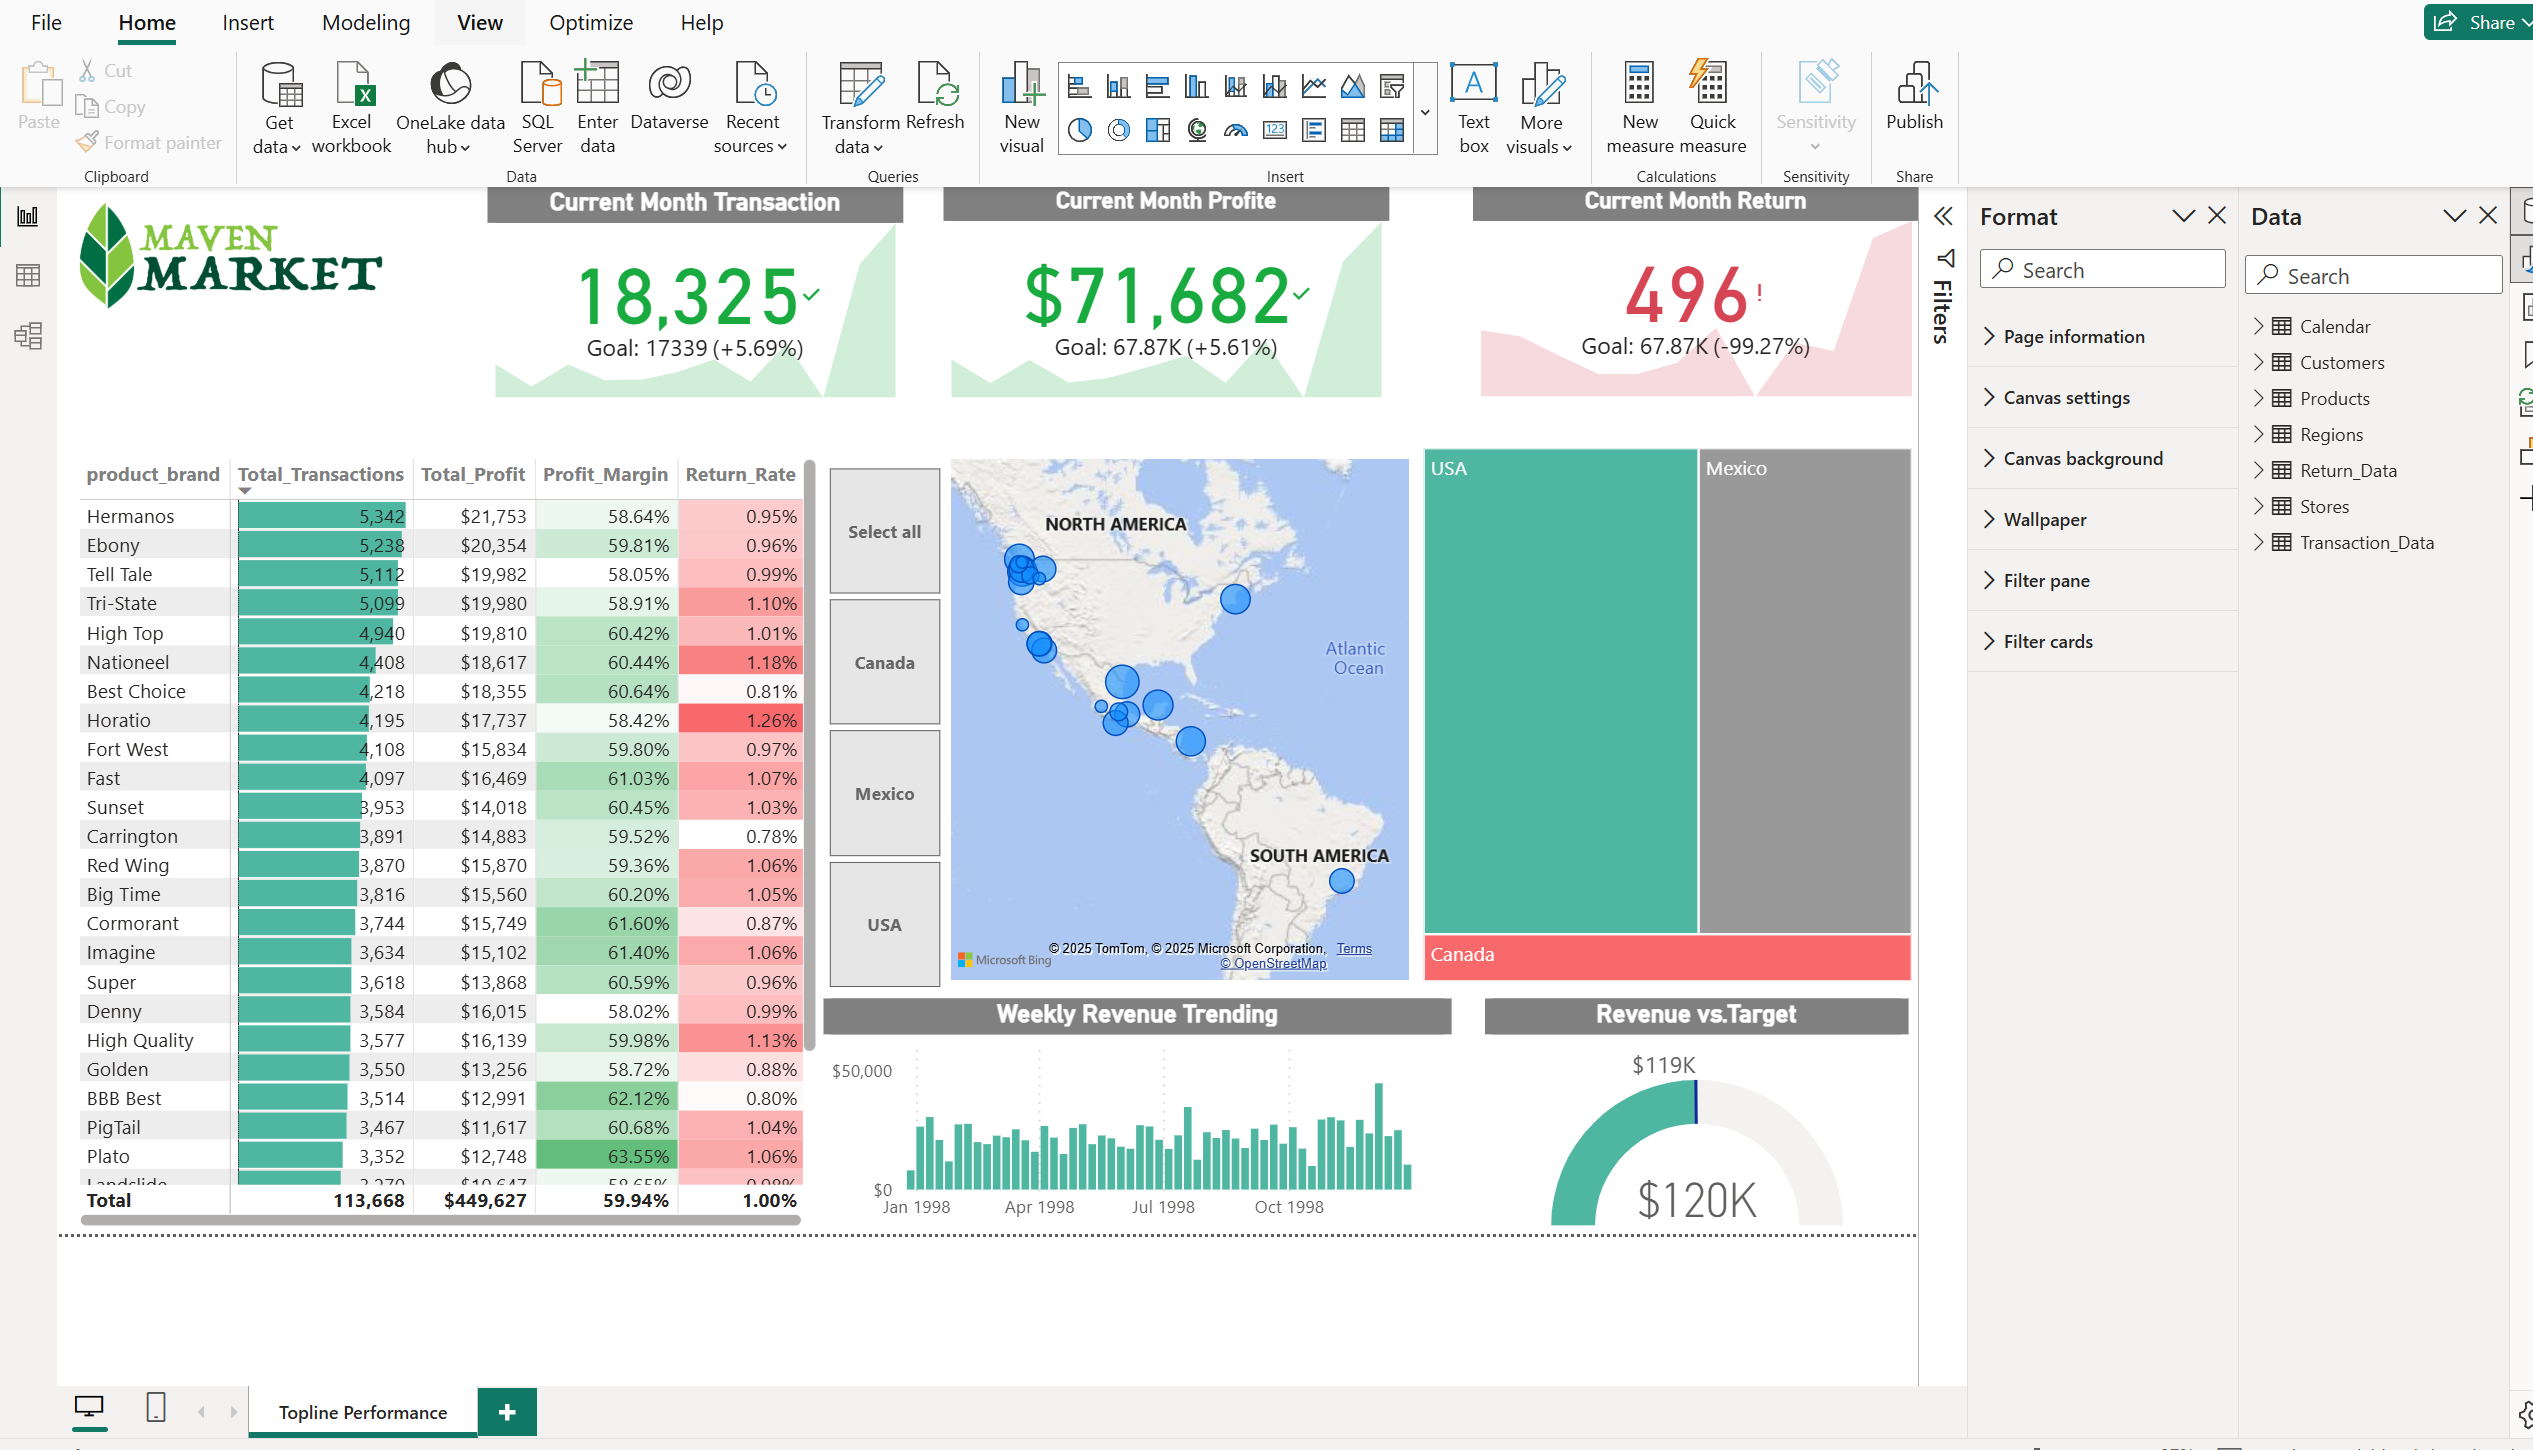

The page's visual inventory and layout, read from the dashboard file:
{"tool":"powerbi","page":{"name":"Topline Performance","canvas":[1280,720],"ordinal":0},"visuals":[{"type":"image","box":[0,0,237.3,93.9],"z":0},{"type":"pivotTable","fields":{"Rows":["Products.product_brand"],"Values":["Transaction_Data.Total_Transactions","Transaction_Data.Total_Profit","Calendar.Profit_Margin","Transaction_Data.Return_Rate"]},"box":[10.3,181.6,516.9,538.6],"z":1000},{"type":"kpi","title":"Current Month Transaction","fields":{"Indicator":["Transaction_Data.Total_Transactions"],"TrendLine":["Calendar.Start_of_Month"],"Goal":["Transaction_Data.Last_Month_Transactions"]},"box":[296.1,0,285.8,149.6],"z":2000},{"type":"kpi","title":"Current Month Profite","fields":{"Indicator":["Transaction_Data.Total_Profit"],"Goal":["Transaction_Data.Last_Month_Profit"],"TrendLine":["Calendar.Start_of_Month"]},"box":[609.7,0,306.4,149.6],"z":3000},{"type":"kpi","title":"Current Month Return","fields":{"Indicator":["Return_Data.Total_Returns"],"Goal":["Transaction_Data.Last_Month_Profit"],"TrendLine":["Calendar.Start_of_Month"]},"box":[973.7,0,306.7,149.2],"z":4000},{"type":"map","fields":{"Size":["Transaction_Data.Total_Transactions"],"Category":["Stores.store_city"]},"box":[609.7,181.6,325,369.4],"z":5000},{"type":"slicer","fields":{"Values":["Stores.store_country"]},"box":[505.5,181.6,125.9,377.6],"z":6000},{"type":"treemap","fields":{"Values":["Transaction_Data.Total_Transactions"],"Group":["Stores.store_country","Stores.store_state","Stores.store_city"]},"box":[934.7,174.4,345.6,376.6],"z":7000},{"type":"columnChart","title":"Weekly Revenue Trending","fields":{"Y":["Transaction_Data.Total_Revenue"],"Category":["Calendar.Start of Week"]},"box":[527.4,558.5,432,161.1],"z":8000},{"type":"gauge","title":"Revenue vs.Target ","fields":{"Y":["Transaction_Data.Total_Revenue"],"TargetValue":["Transaction_Data.Revenue_Target"]},"box":[982.1,558.5,291.2,161.1],"z":9000}]}

Visuals, with their boxes on the page's 1280x720 design canvas (x1, y1, x2, y2). These are canvas units, not pixel positions in the 2533x1450 screenshot, which may show the page scaled, cropped or inside an application window:
image: [x1=0, y1=0, x2=237, y2=94]
pivotTable - Products.product_brand x Transaction_Data.Total_Transactions: [x1=10, y1=182, x2=527, y2=720]
"Current Month Transaction" kpi: [x1=296, y1=0, x2=582, y2=150]
"Current Month Profite" kpi: [x1=610, y1=0, x2=916, y2=150]
"Current Month Return" kpi: [x1=974, y1=0, x2=1280, y2=149]
map - Transaction_Data.Total_Transactions x Stores.store_city: [x1=610, y1=182, x2=935, y2=551]
slicer - Stores.store_country: [x1=506, y1=182, x2=631, y2=559]
treemap - Transaction_Data.Total_Transactions x Stores.store_country: [x1=935, y1=174, x2=1280, y2=551]
"Weekly Revenue Trending" columnChart: [x1=527, y1=558, x2=959, y2=720]
"Revenue vs.Target " gauge: [x1=982, y1=558, x2=1273, y2=720]
